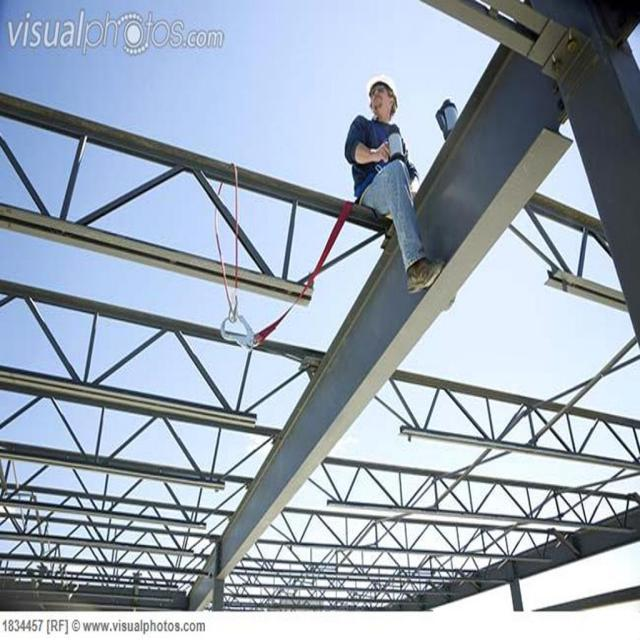nomask: (370, 84, 388, 113)
